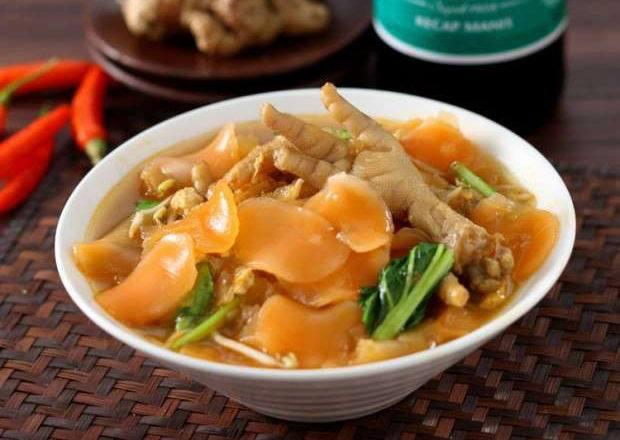seblak: (72, 83, 564, 368)
